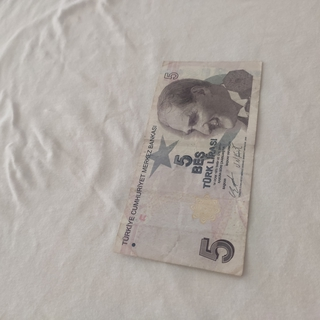5TLFront: (113, 58, 263, 275)
